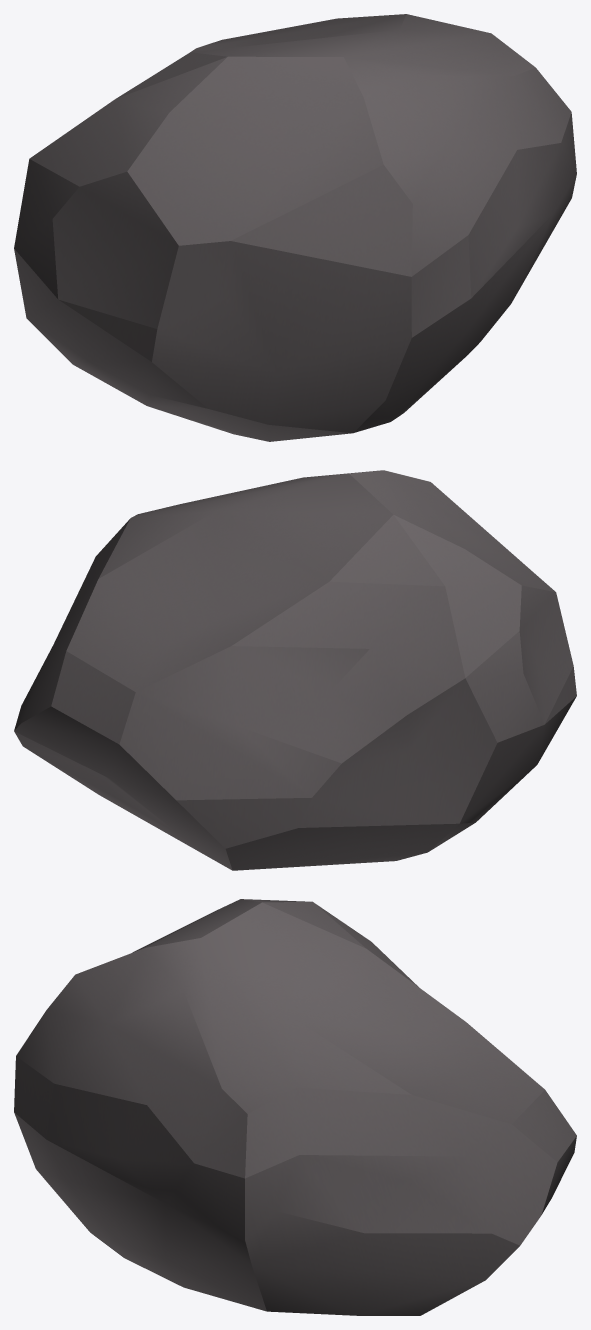
File: Rocks03.fbx
The picture shows the model from 3 angles, top to bottom: view 1: azimuth 30°, elevation 25°; view 2: azimuth 150°, elevation 25°; view 3: azimuth 270°, elevation 25°; orthographic projection. The views are drawn at different scales.
Parts seen in each view (by area): view 1: Rock.003; view 2: Rock.003; view 3: Rock.003.
Part boxes in pixels (x1=…): Rock.003: x1=14, y1=14, x2=576, y2=441; Rock.003: x1=14, y1=470, x2=576, y2=870; Rock.003: x1=14, y1=899, x2=576, y2=1315.
Bounding box in the file's own units: 1.39 × 0.9228 × 1.4.
